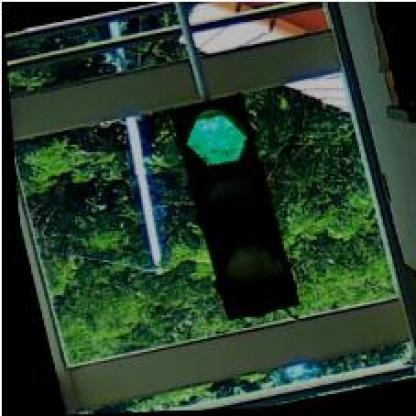green: (166, 91, 296, 323)
